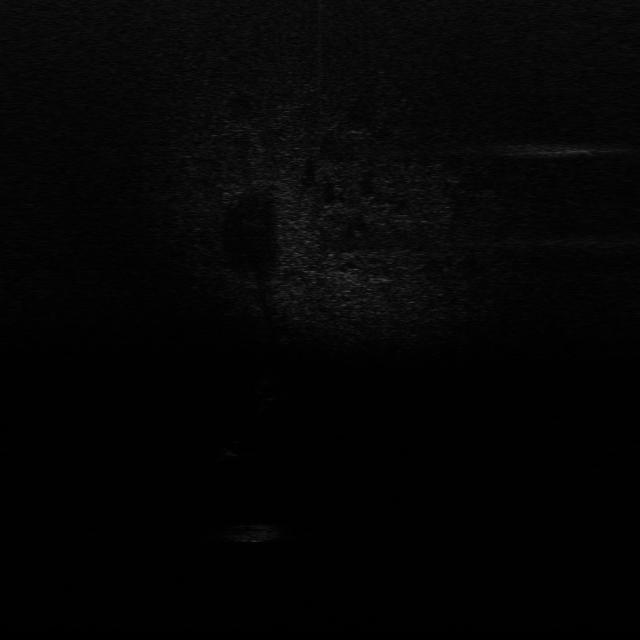ball: (221, 440, 243, 457)
circle cage: (222, 520, 284, 545)
human body: (253, 369, 276, 419)
